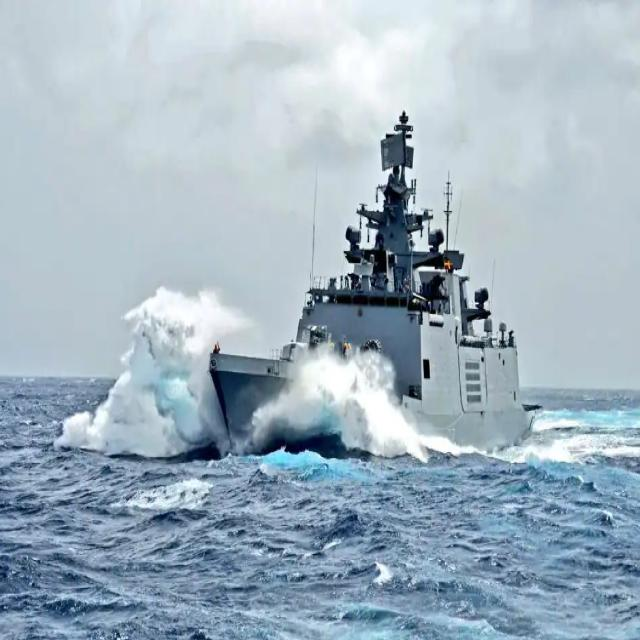navalvessels: (190, 110, 532, 440)
